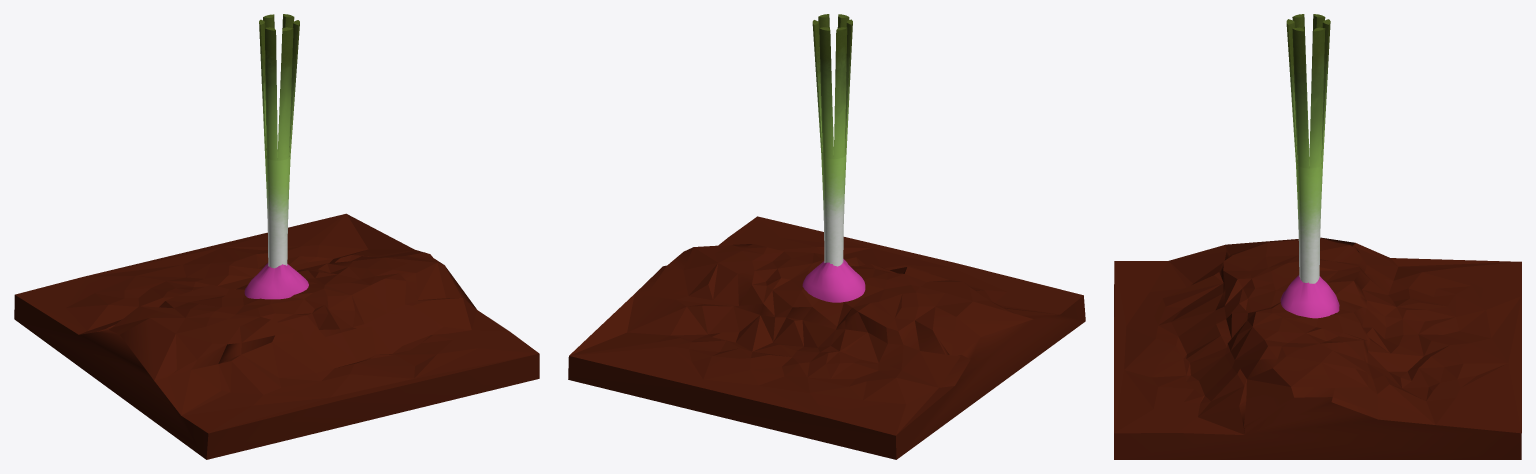
Rendered from bedeng_bawang_2.obj.
The picture shows the model from 3 angles, left to right: view 1: azimuth 30°, elevation 25°; view 2: azimuth 150°, elevation 25°; view 3: azimuth 270°, elevation 25°; orthographic projection. The views are drawn at different scales.
Parts seen in each view (by area): view 1: PP_Meadow_Path_05_Scene.1042, Leek_Mesh, Cube; view 2: PP_Meadow_Path_05_Scene.1042, Leek_Mesh, Cube; view 3: PP_Meadow_Path_05_Scene.1042, Leek_Mesh, Cube.
Part boxes in pixels (x1,y1,x2,y2): PP_Meadow_Path_05_Scene.1042: (14, 213, 539, 459); Leek_Mesh: (259, 14, 299, 268); Cube: (244, 263, 308, 299); PP_Meadow_Path_05_Scene.1042: (568, 216, 1085, 459); Leek_Mesh: (812, 14, 852, 266); Cube: (802, 259, 865, 302); PP_Meadow_Path_05_Scene.1042: (1114, 237, 1521, 459); Leek_Mesh: (1286, 14, 1330, 283); Cube: (1280, 275, 1339, 318).
Bounding box in the file's own units: 1 × 0.9474 × 1.
